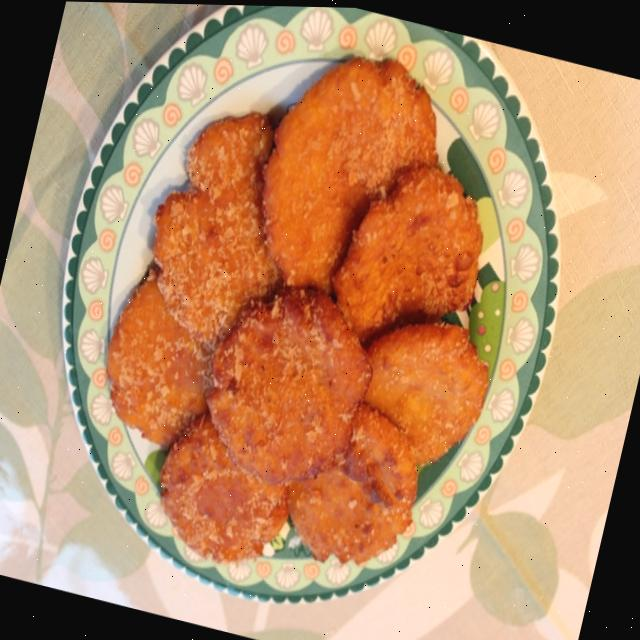炸货点心: (38, 1, 571, 624)
蛋糕甜品: (38, 1, 571, 624)
